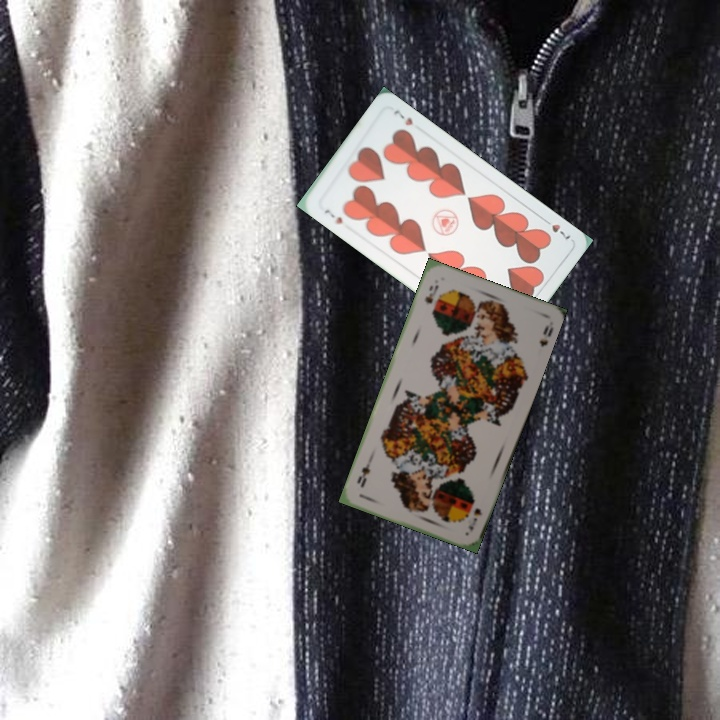H7: (538, 214, 574, 242), (320, 205, 345, 228)
SO: (464, 504, 485, 533), (420, 281, 441, 306)
